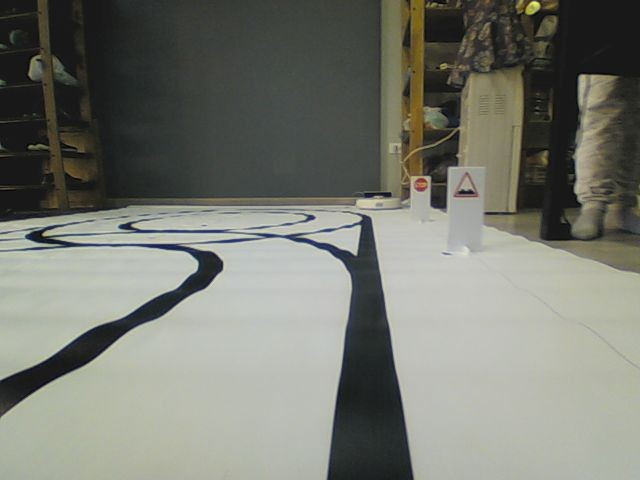Nerov: (452, 171, 480, 198)
